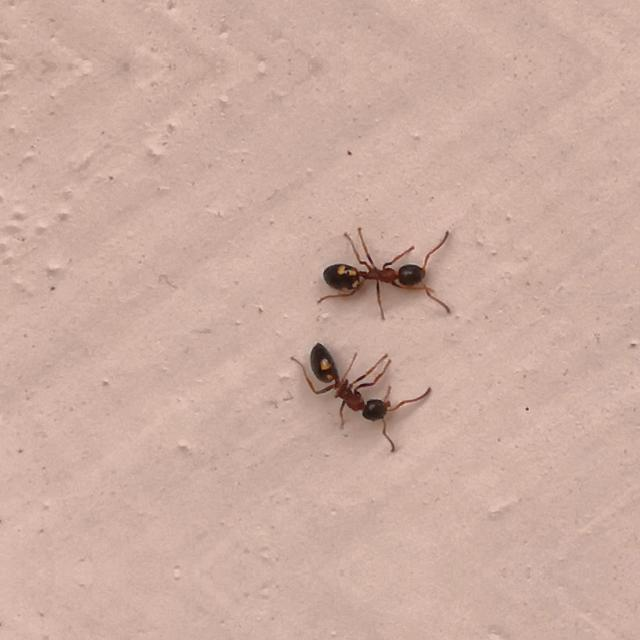Dolichoderus: (286, 332, 430, 443), (306, 226, 462, 320)
